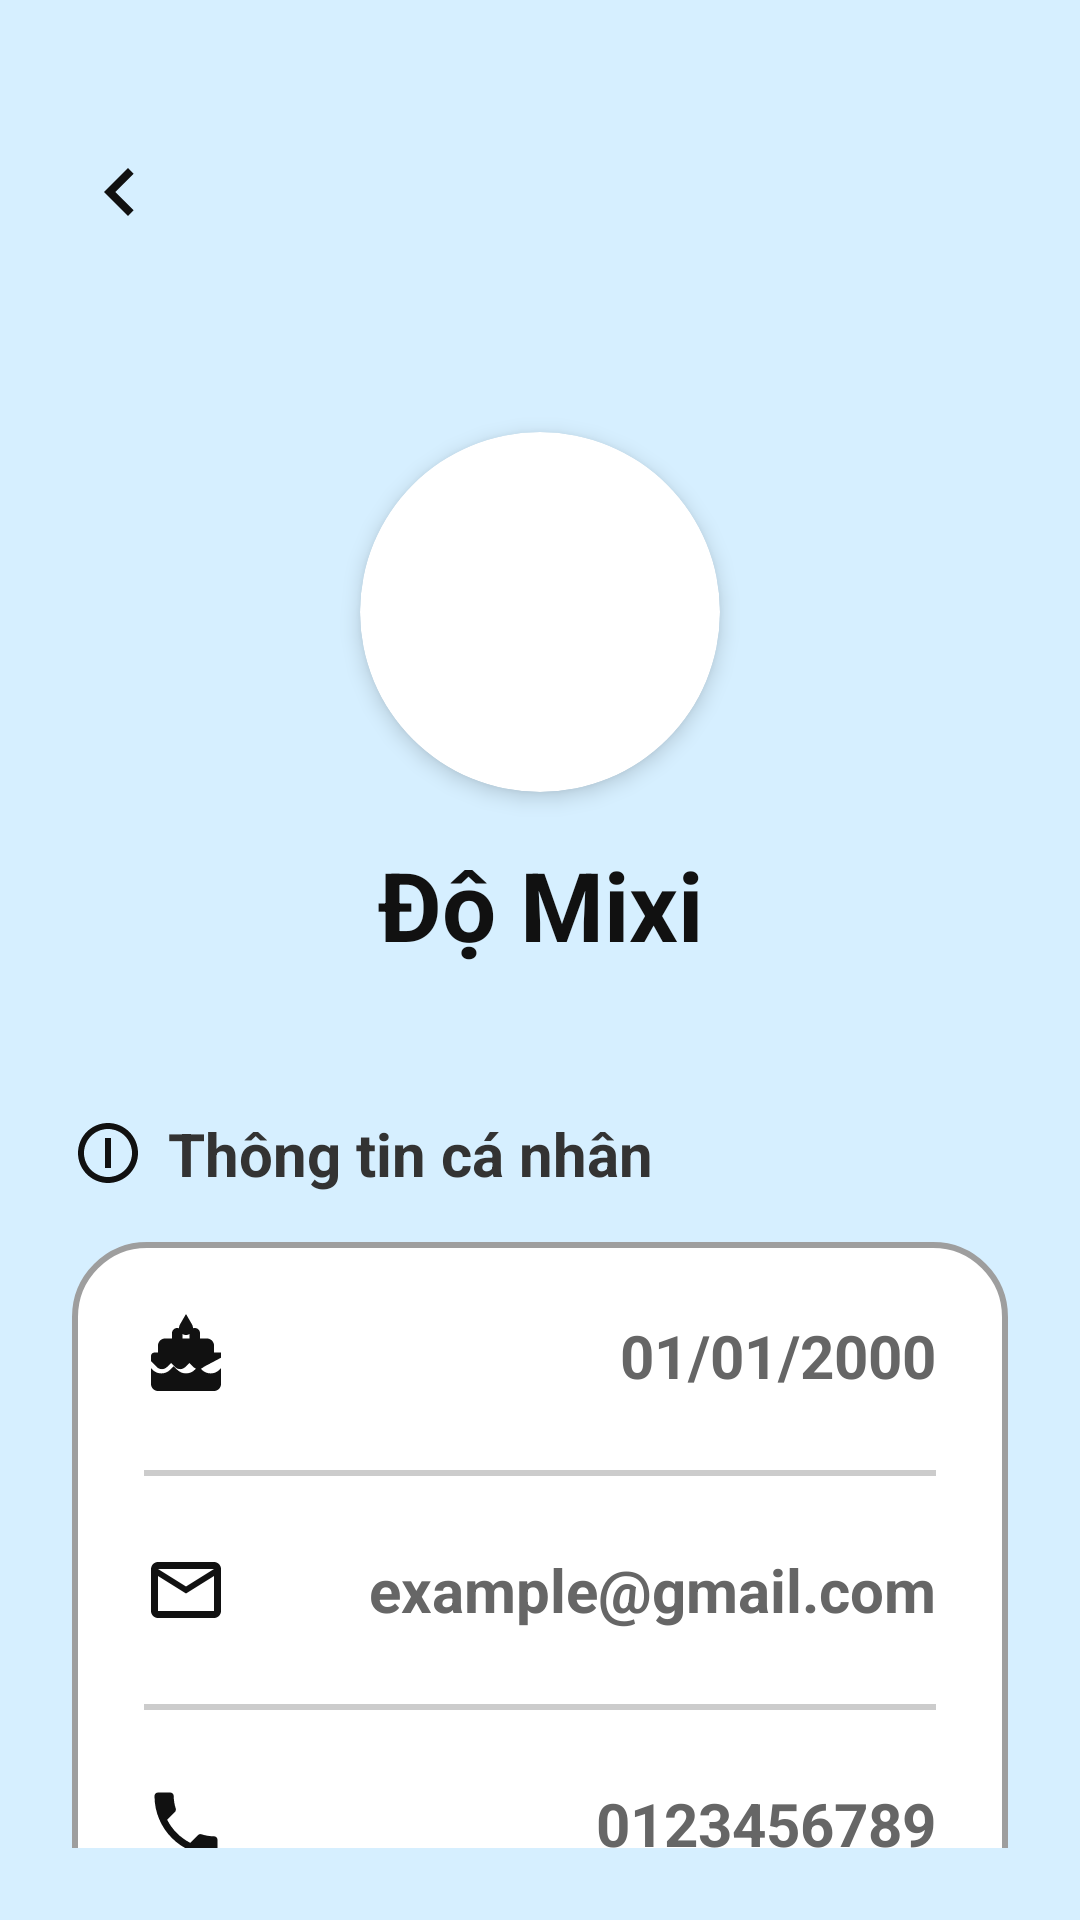

Named icons in this screenshot (1080*1920) and their bounding boxes, (x1, y1, x2, y2):
back arrow: (104, 168, 134, 216)
cake: (151, 1314, 221, 1391)
phone: (144, 1792, 228, 1866)
